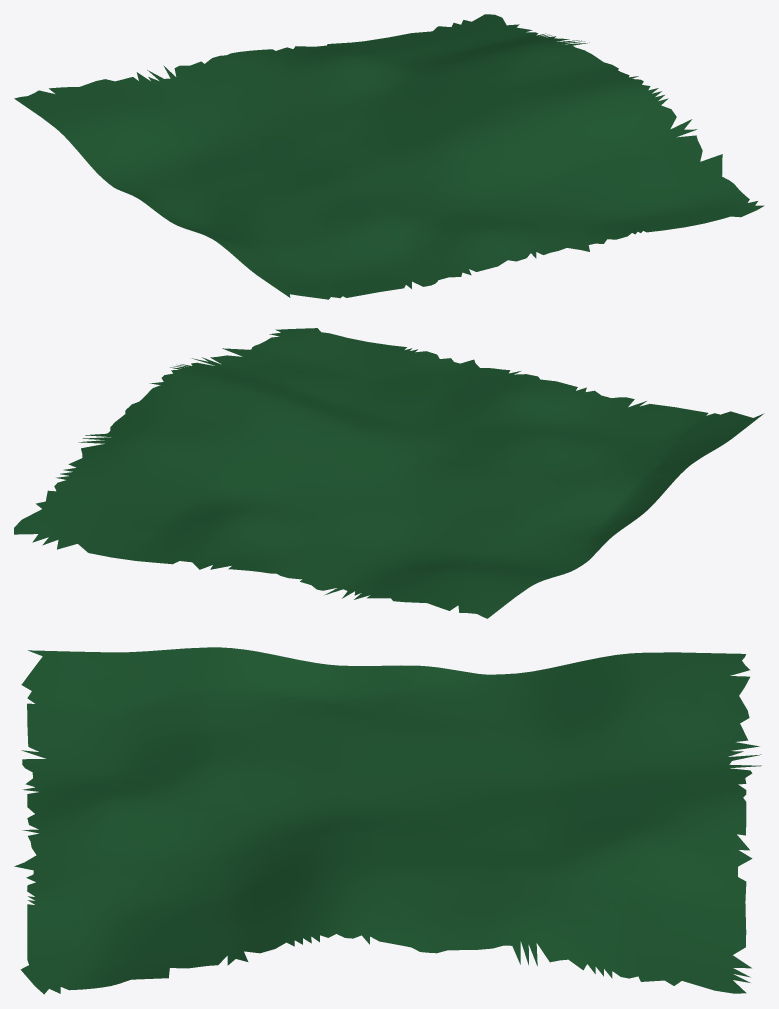
Rendered from payo_land_xm4_ym2_lod1.glb.
3 renders of one model, top to bottom at view 1: azimuth 30°, elevation 25°; view 2: azimuth 150°, elevation 25°; view 3: azimuth 270°, elevation 25°, orthographic. The views are drawn at different scales.
Visible parts, largest first — view 1: payo_land_xm4_ym2; view 2: payo_land_xm4_ym2; view 3: payo_land_xm4_ym2.
Boxes of the visible parts, x1,y1,x2,y2 form: payo_land_xm4_ym2: (14, 14, 764, 299); payo_land_xm4_ym2: (14, 328, 764, 618); payo_land_xm4_ym2: (14, 647, 761, 994).
Bounding box in the file's own units: 264 × 25.14 × 269.
